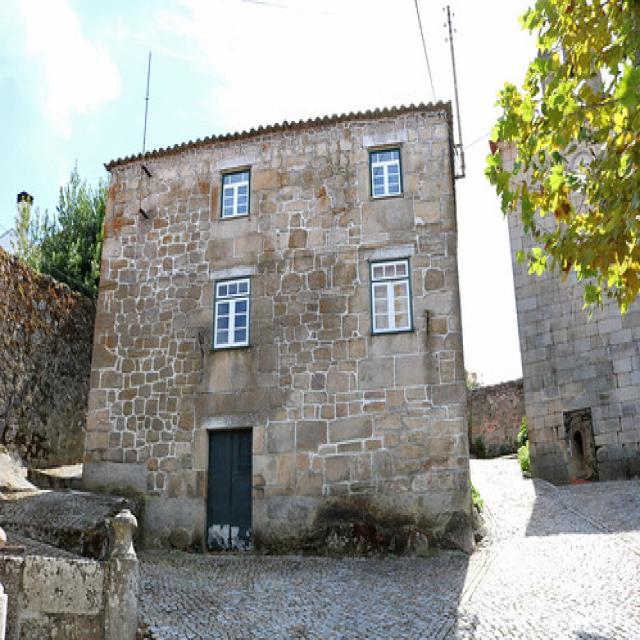building: (77, 92, 477, 556)
